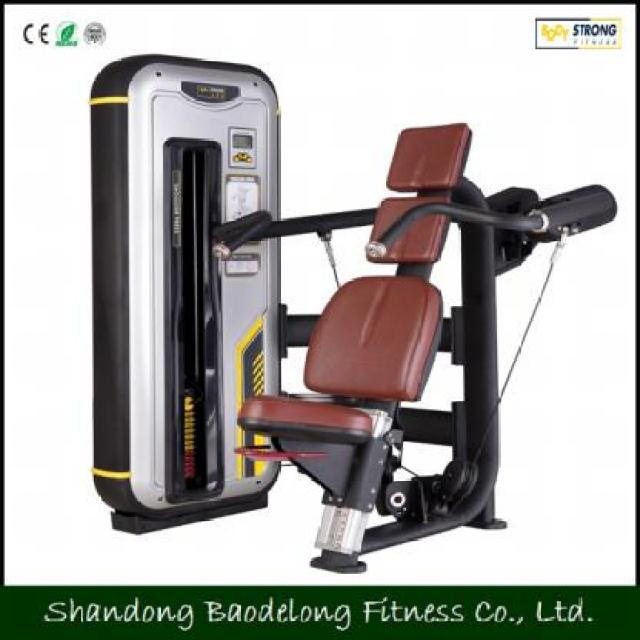shoulder press machine: (88, 58, 614, 570)
